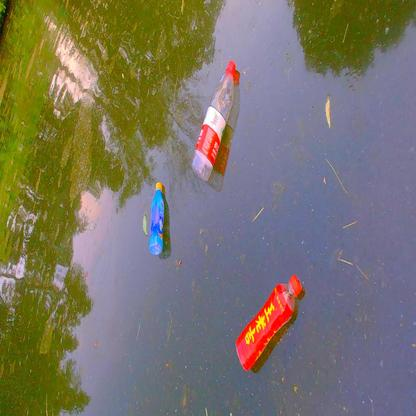plastic bottle: (234, 274, 301, 371), (191, 61, 237, 179), (148, 182, 167, 256)
